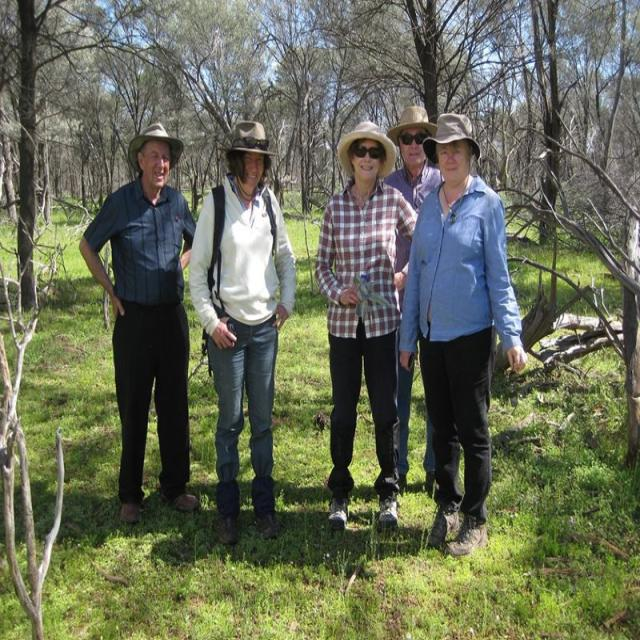body: (395, 109, 530, 558), (77, 120, 200, 526), (188, 117, 298, 548), (315, 118, 420, 532), (148, 472, 430, 573), (383, 104, 447, 497)
